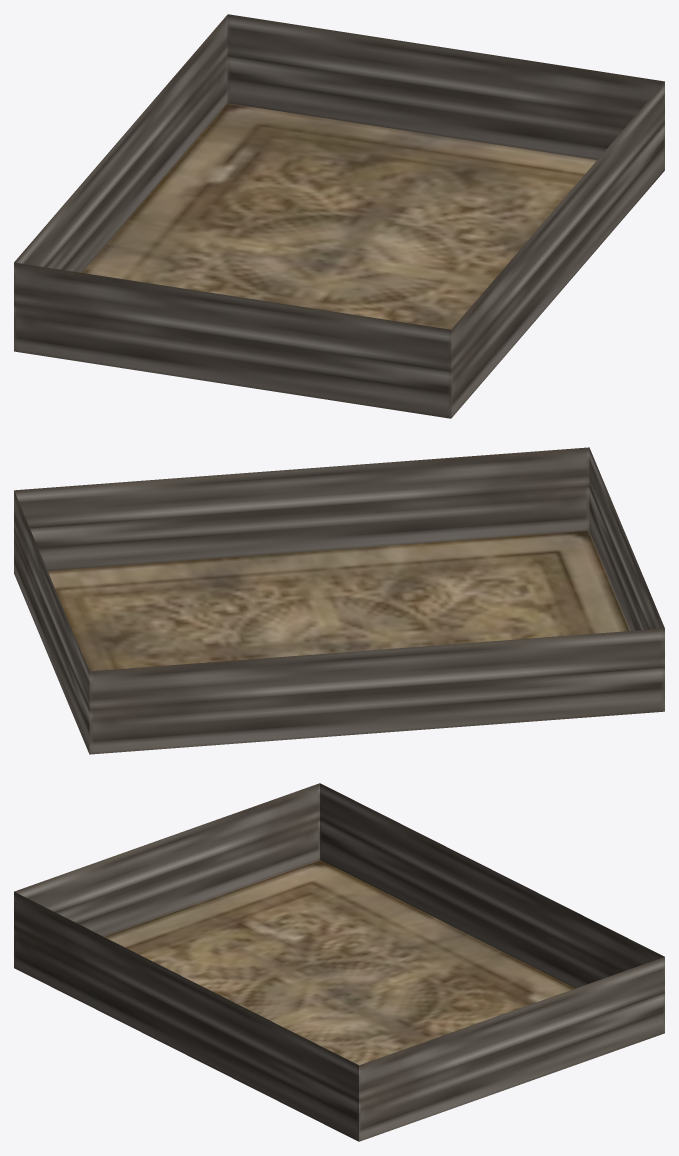
Rendered from pir_m_hnd_crd_deck.fbx.
3 renders of one model, top to bottom at view 1: azimuth 30°, elevation 25°; view 2: azimuth 150°, elevation 25°; view 3: azimuth 270°, elevation 25°, orthographic. The views are drawn at different scales.
Parts seen in each view (by area): view 1: deck; view 2: deck; view 3: deck.
Boxes of the visible parts, x1=… form: deck: x1=14, y1=14, x2=664, y2=418; deck: x1=14, y1=447, x2=664, y2=754; deck: x1=14, y1=783, x2=664, y2=1141.
Size of the model in its own units: 45.47 by 5.74 by 44.32.
Materials: 1 (1 with a texture image).
